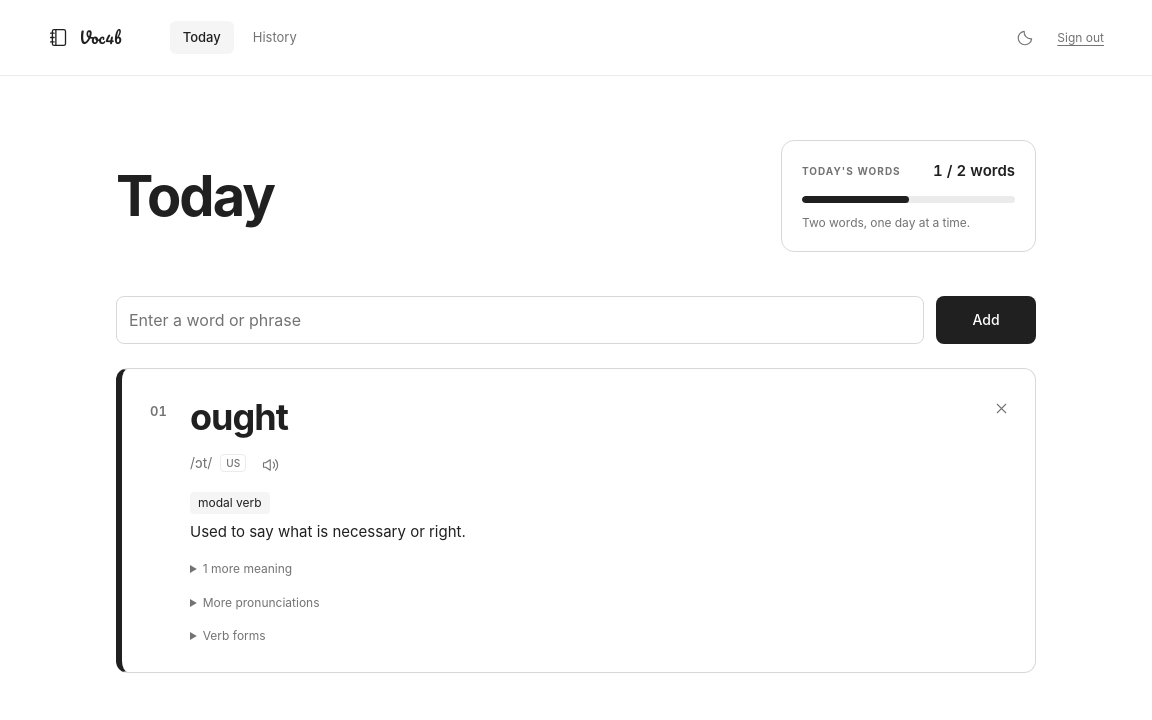
Test: shows the inline form immediately and rejects an existing word without a request
Check: the button "Add" is disabled, box 936,296 -> 1036,344
Type "  OUGHT  " into the field labelled "word" at (520, 320), box 116,296 -> 924,344
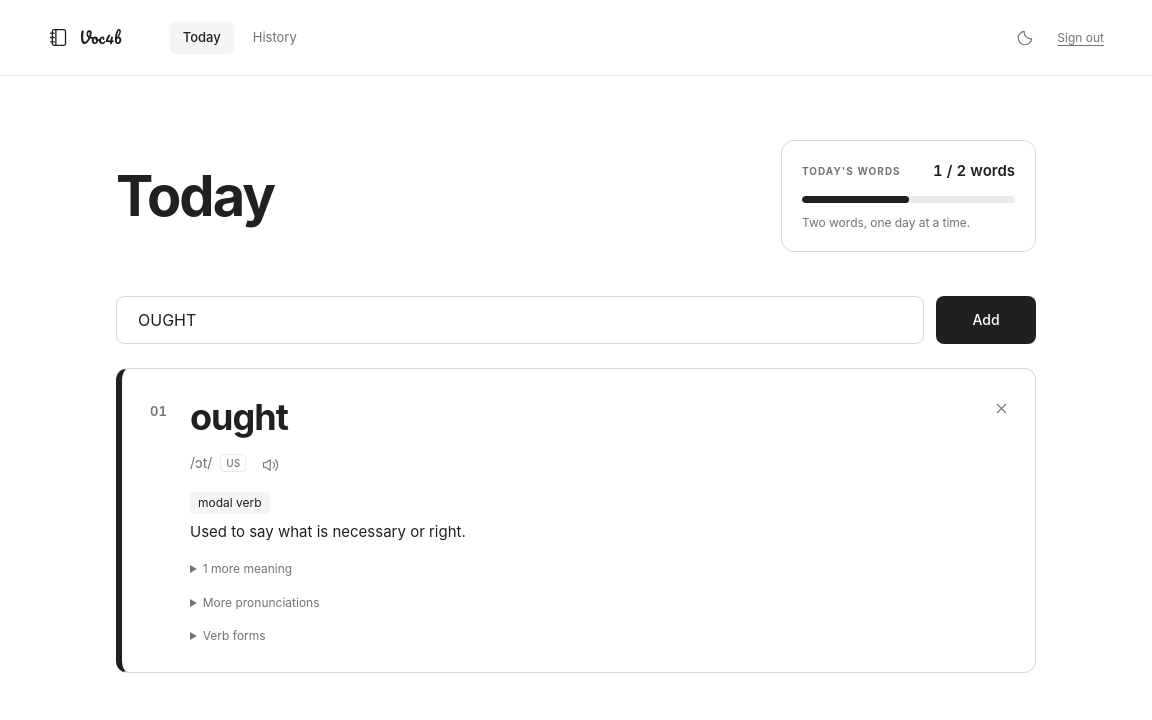
Submit the form "Add", box 116,296 -> 1036,344
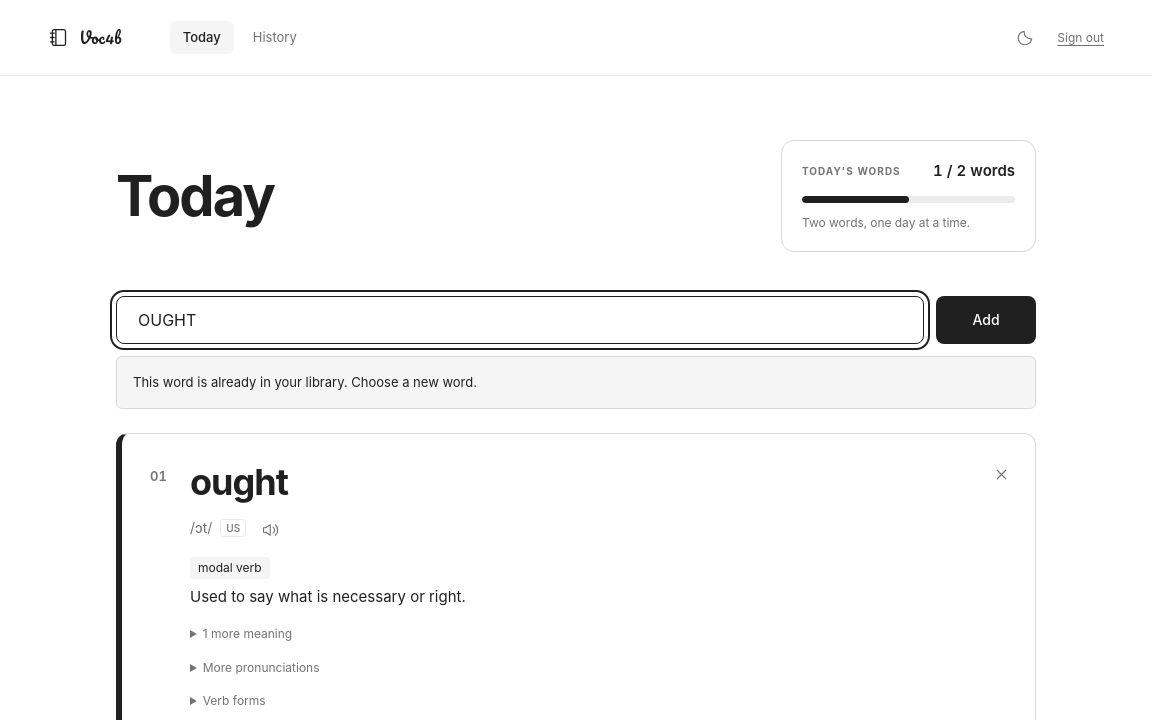
Check: the message reads "This word is already in your library. Choose a new word.", box 133,374 -> 477,390
